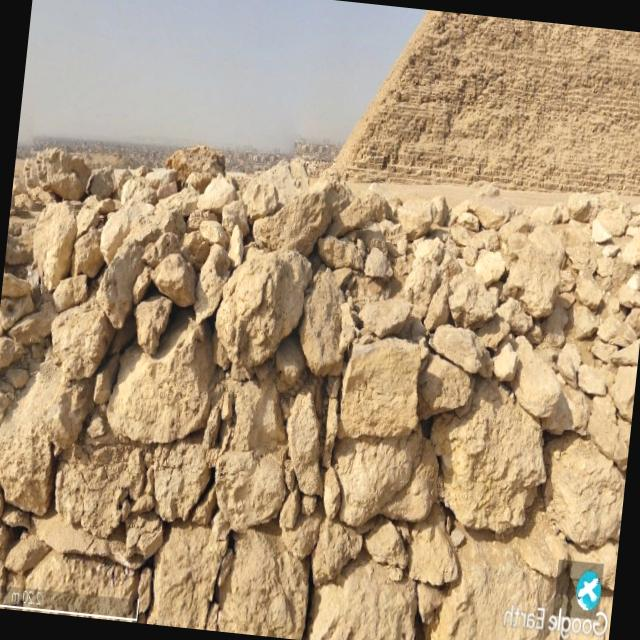objects-ruins-artifacts: (309, 181, 617, 538), (0, 202, 267, 589)
